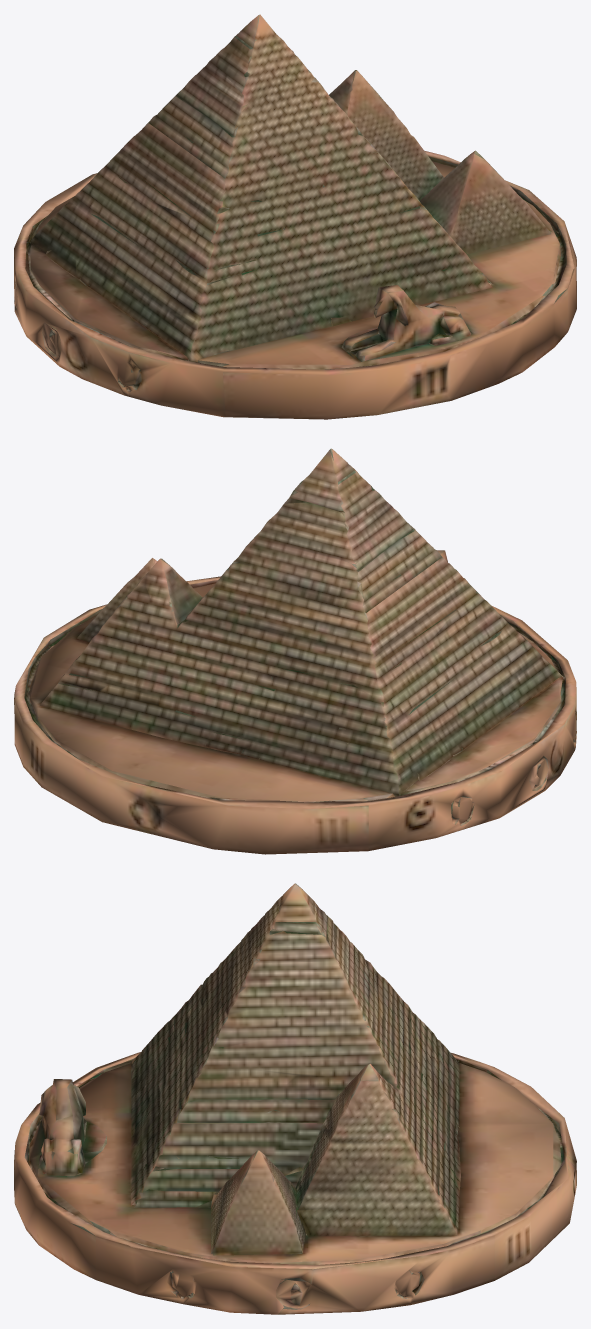
The model's file is pyramid_giza.glb.
3 renders of one model, top to bottom at view 1: azimuth 30°, elevation 25°; view 2: azimuth 150°, elevation 25°; view 3: azimuth 270°, elevation 25°, orthographic.
Parts seen in each view (by area): view 1: Mesh_0; view 2: Mesh_0; view 3: Mesh_0.
Boxes of the visible parts, <box> form: Mesh_0: <box>14,14,576,419</box>; Mesh_0: <box>14,448,576,854</box>; Mesh_0: <box>14,883,576,1314</box>.
Bounding box in the file's own units: 1.91 × 1.11 × 1.91.
1 material, 1 textured.
